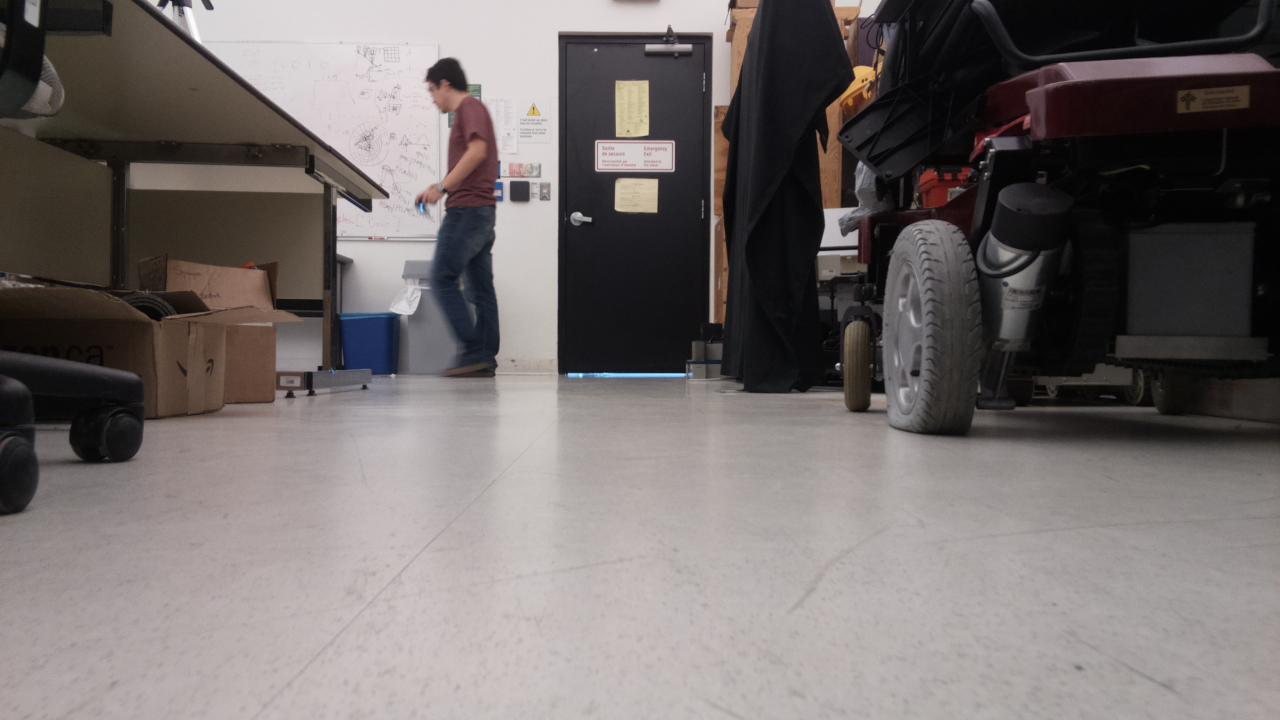door: (566, 43, 703, 370)
person: (415, 57, 499, 379)
sign: (596, 141, 673, 171), (517, 99, 550, 142)
